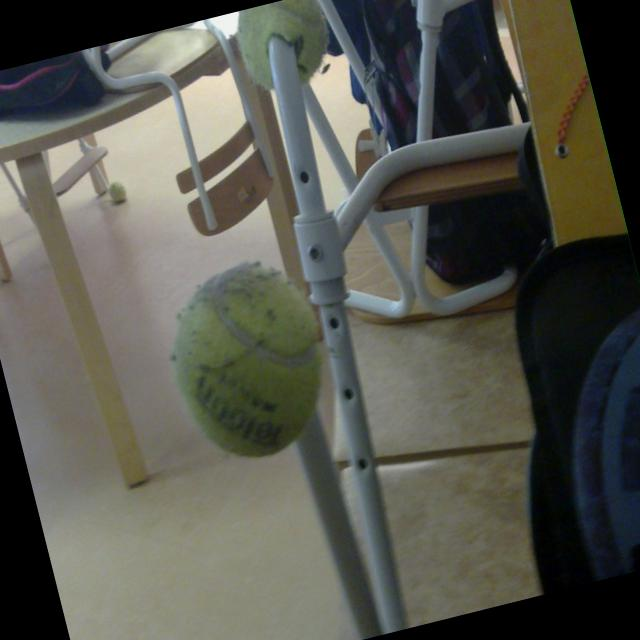Tennis ball: (151, 246, 344, 472)
